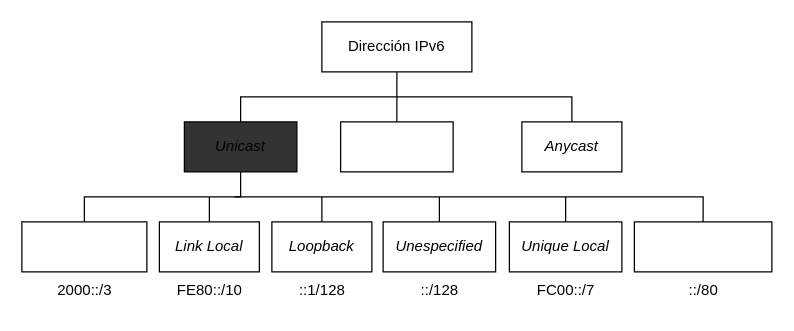
Image size: 794x331. Some labels were removed from this diagram. Each missing label, with the centre of its shape:
"Embedded IPv4" belongs at point (702, 246).
"Global Unicast" belongs at point (84, 246).
"Multicast" belongs at point (396, 146).
